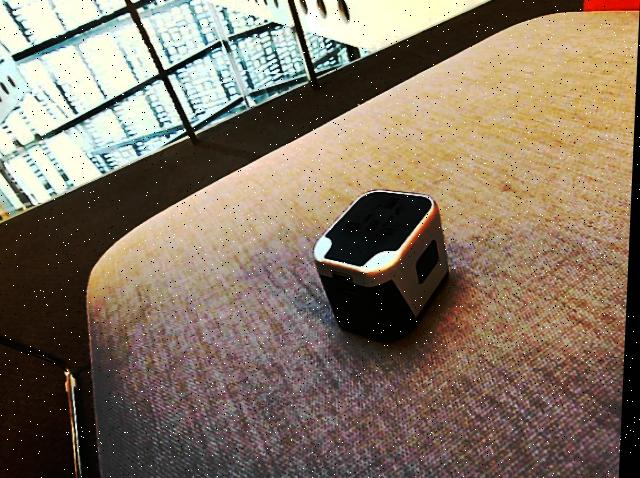adapter: (312, 188, 454, 342)
